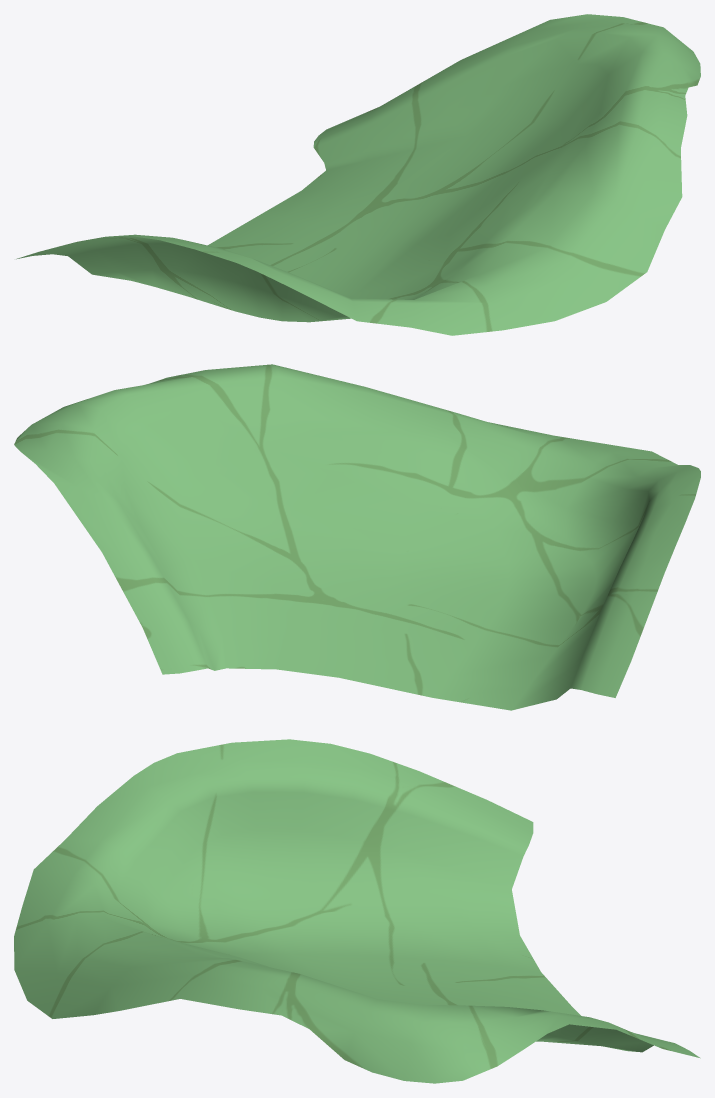
File: Mesh_Home_RF_Leaf_10_SM.fbx
3 renders of one model, top to bottom at view 1: azimuth 30°, elevation 25°; view 2: azimuth 150°, elevation 25°; view 3: azimuth 270°, elevation 25°, orthographic. The views are drawn at different scales.
Visible parts, largest first — view 1: Mesh_Home_RF_Leaf_10; view 2: Mesh_Home_RF_Leaf_10; view 3: Mesh_Home_RF_Leaf_10.
Part boxes in pixels (x1,y1,x2,y2): Mesh_Home_RF_Leaf_10: (16, 14, 700, 335); Mesh_Home_RF_Leaf_10: (14, 364, 700, 710); Mesh_Home_RF_Leaf_10: (14, 739, 700, 1083).
Bounding box in the file's own units: 1022 × 251 × 828.
Materials: 1 (1 with a texture image).
